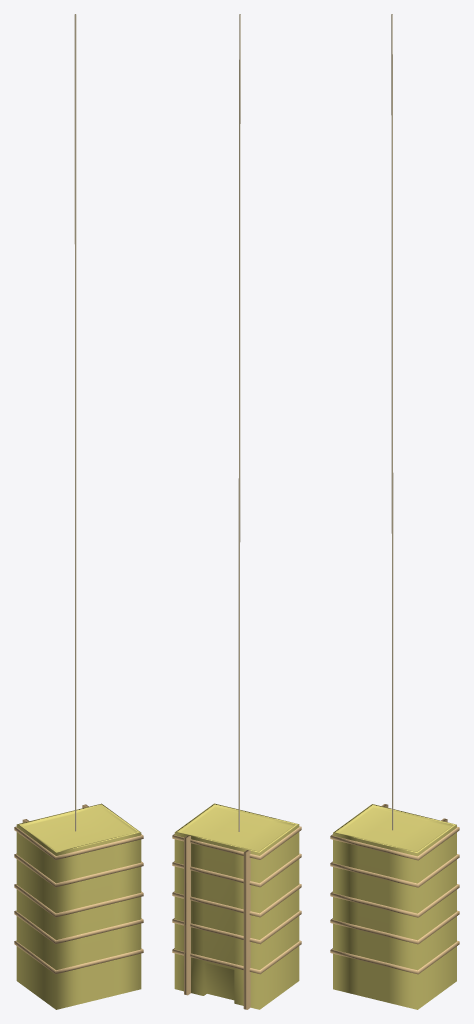
The model's file is Buildings.fbx.
3 renders of one model, left to right at view 1: azimuth 30°, elevation 25°; view 2: azimuth 150°, elevation 25°; view 3: azimuth 330°, elevation 25°, orthographic.
Visible parts, largest first — view 1: b_02, megnet; view 2: b_02, megnet; view 3: b_02, megnet.
Boxes of the visible parts, x1,y1,x2,y2 form: b_02: [14, 803, 143, 1009]; megnet: [74, 14, 76, 831]; b_02: [172, 803, 301, 1009]; megnet: [238, 14, 240, 831]; b_02: [330, 804, 459, 1009]; megnet: [391, 14, 393, 830].
Bounding box in the file's own units: 982 × 10354 × 841.
